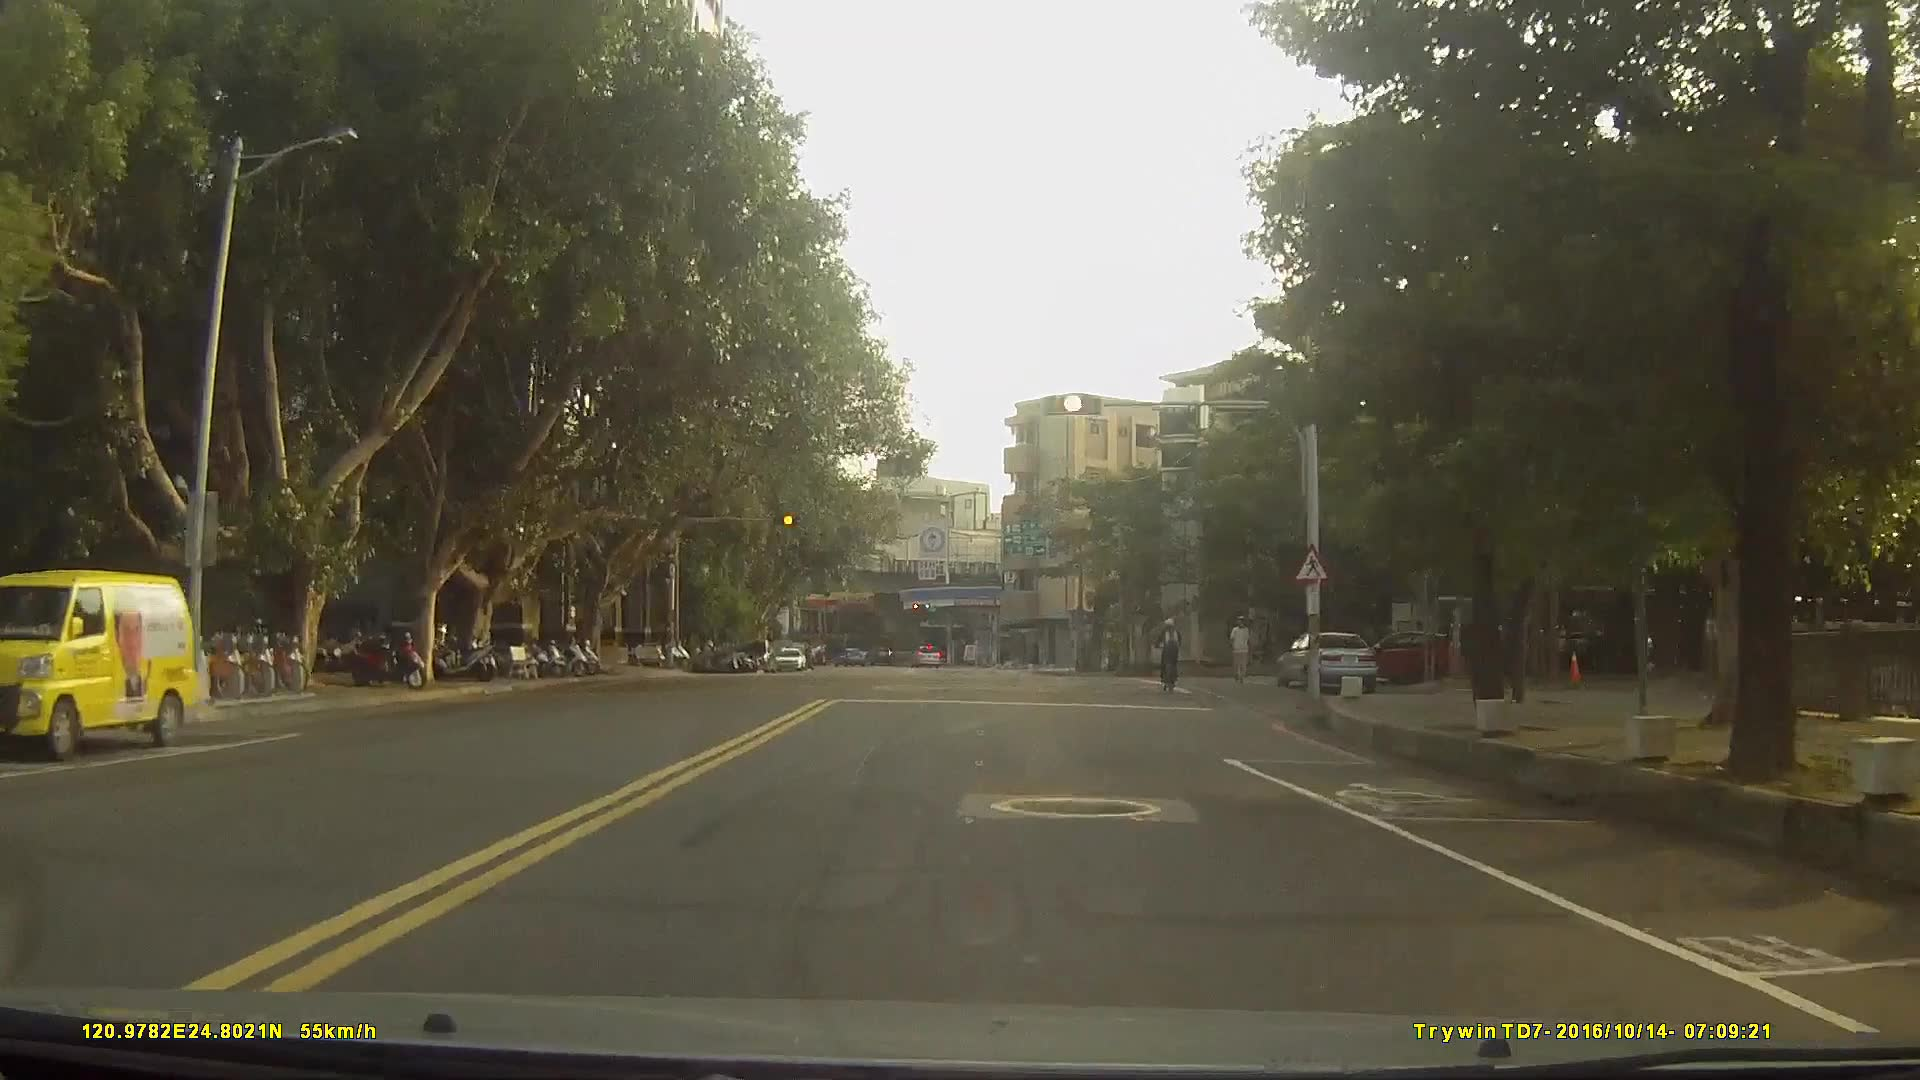pedestrian: (1227, 612, 1257, 687)
rider: (1160, 616, 1189, 693)
vehicle: (1273, 632, 1377, 695), (1348, 625, 1450, 686), (773, 645, 805, 670), (907, 642, 940, 666)
